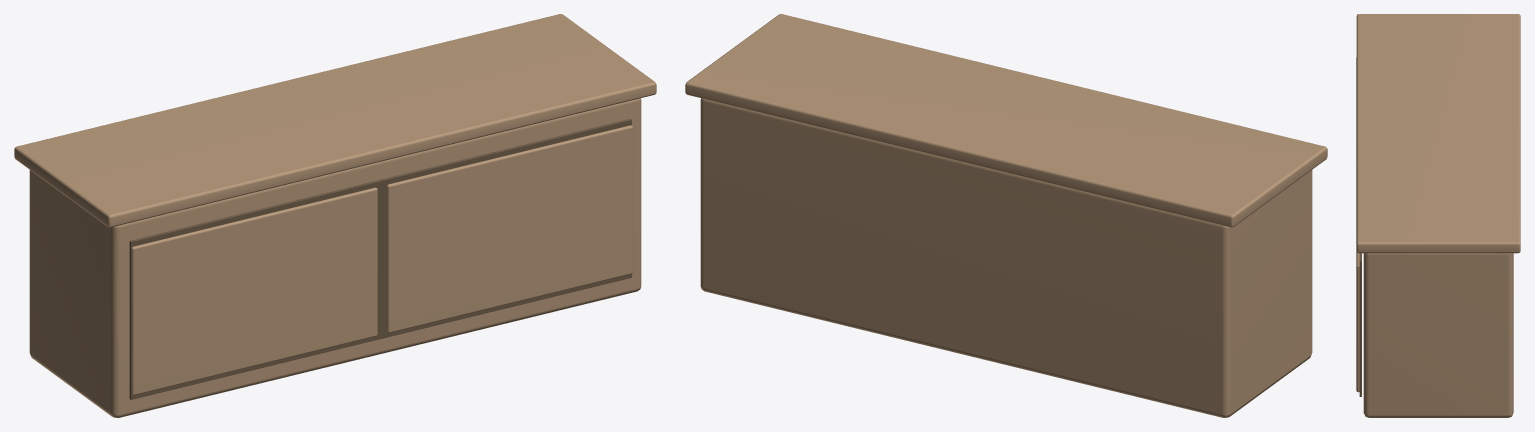
Rendered from floating-tv-console.glb.
3 views of the same model, side by side, from view 1: azimuth 30°, elevation 25°; view 2: azimuth 150°, elevation 25°; view 3: azimuth 270°, elevation 25° (orthographic). The views are drawn at different scales.
Visible parts, largest first — view 1: Floating console; view 2: Floating console; view 3: Floating console.
Part boxes in pixels (x1,y1,x2,y2): Floating console: (14,14,656,417); Floating console: (685,14,1327,417); Floating console: (1356,14,1520,417).
Size of the model in its own units: 1.16 by 0.426 by 0.3505.
